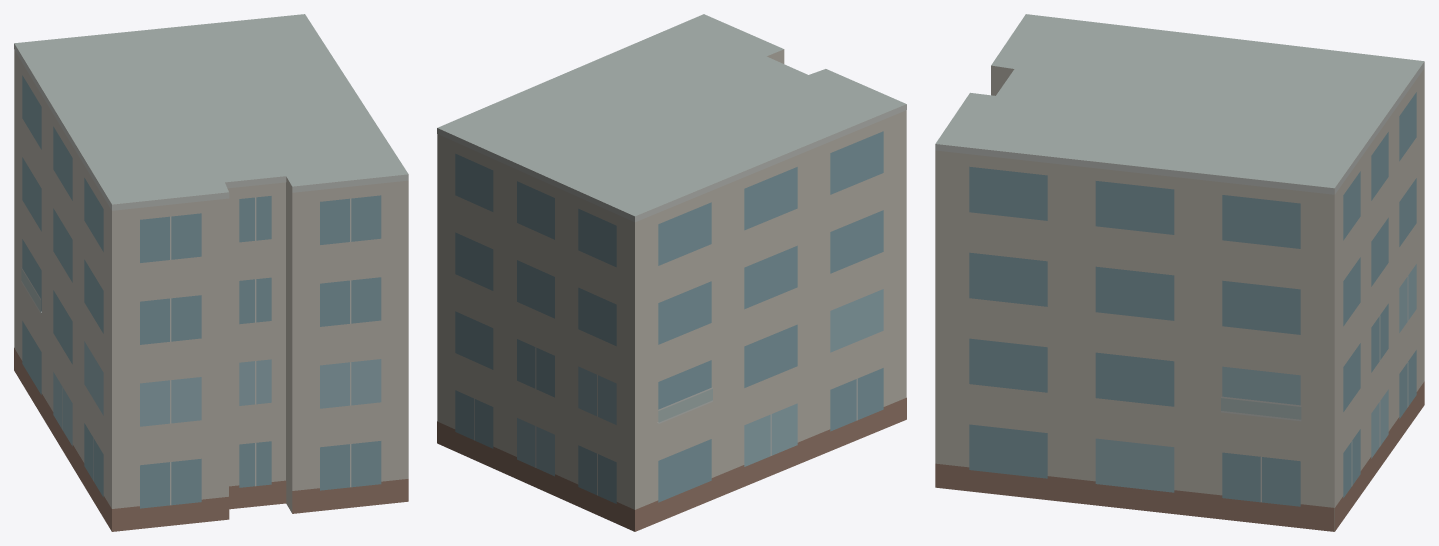
Rendered from survey-upis-32878856.glb.
The picture shows the model from 3 angles, left to right: view 1: azimuth 30°, elevation 25°; view 2: azimuth 150°, elevation 25°; view 3: azimuth 270°, elevation 25°; orthographic projection. The views are drawn at different scales.
Visible parts, largest first — view 1: survey-upis-32878856.tmp; view 2: survey-upis-32878856.tmp; view 3: survey-upis-32878856.tmp.
Part boxes in pixels (bbox=[...]): survey-upis-32878856.tmp: bbox=[14, 14, 408, 531]; survey-upis-32878856.tmp: bbox=[437, 14, 906, 531]; survey-upis-32878856.tmp: bbox=[935, 14, 1424, 531].
Size of the model in its own units: 13.99 by 12.86 by 16.61.
